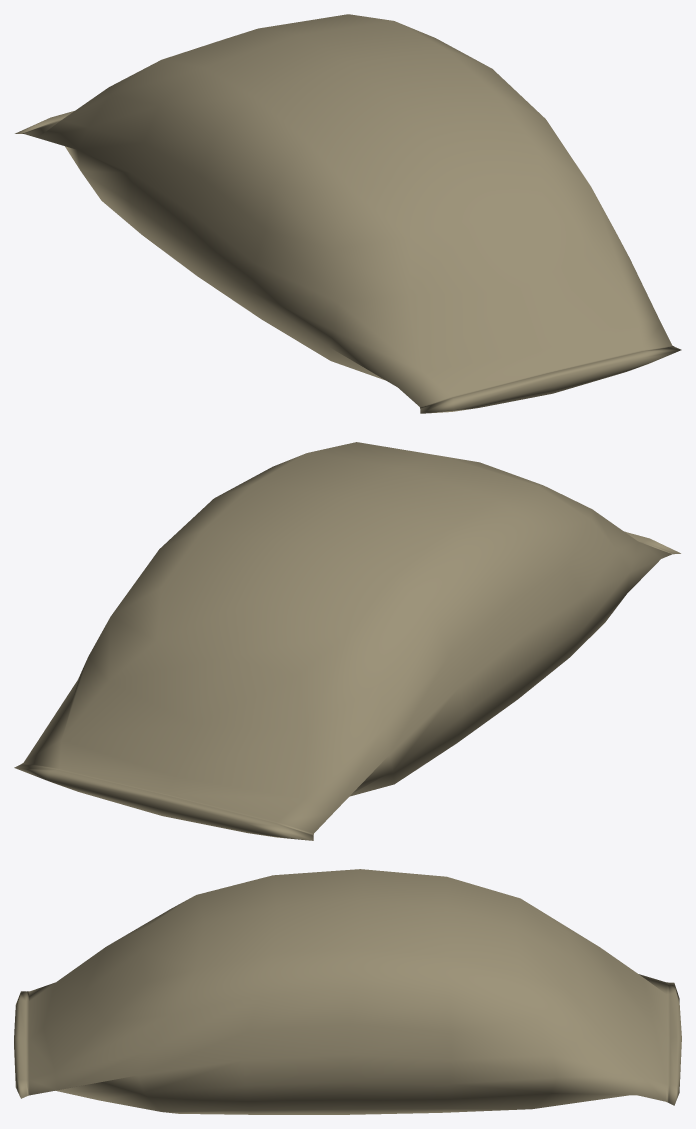
File: 3Dobject_sack2.fbx
3 renders of one model, top to bottom at view 1: azimuth 30°, elevation 25°; view 2: azimuth 150°, elevation 25°; view 3: azimuth 270°, elevation 25°, orthographic. The views are drawn at different scales.
Visible parts, largest first — view 1: pCube2; view 2: pCube2; view 3: pCube2.
Part boxes in pixels (x1=…): pCube2: x1=15, y1=14, x2=681, y2=413; pCube2: x1=14, y1=442, x2=680, y2=840; pCube2: x1=14, y1=869, x2=681, y2=1114.
Bounding box in the file's own units: 0.9344 × 0.5385 × 1.86.
